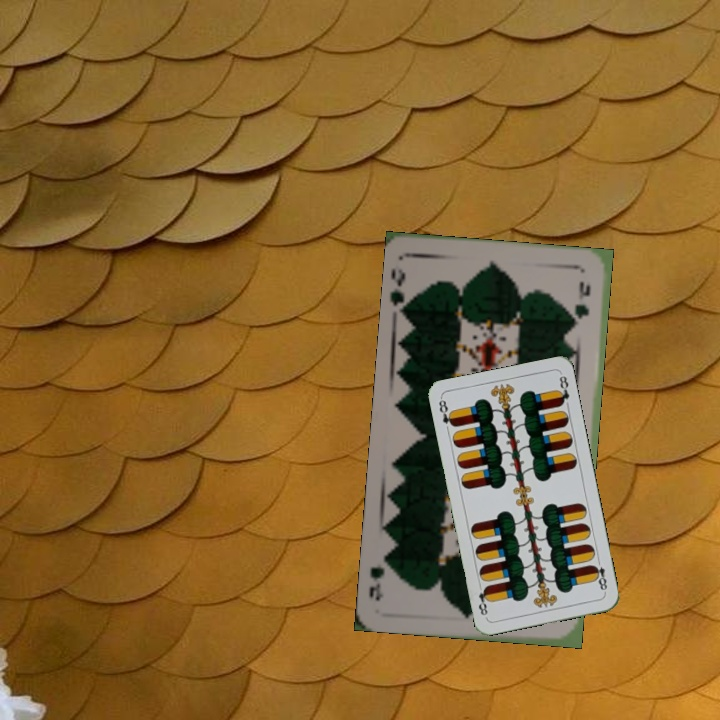E8: (589, 555, 610, 596), (435, 395, 457, 429)
G9: (387, 265, 415, 317)
